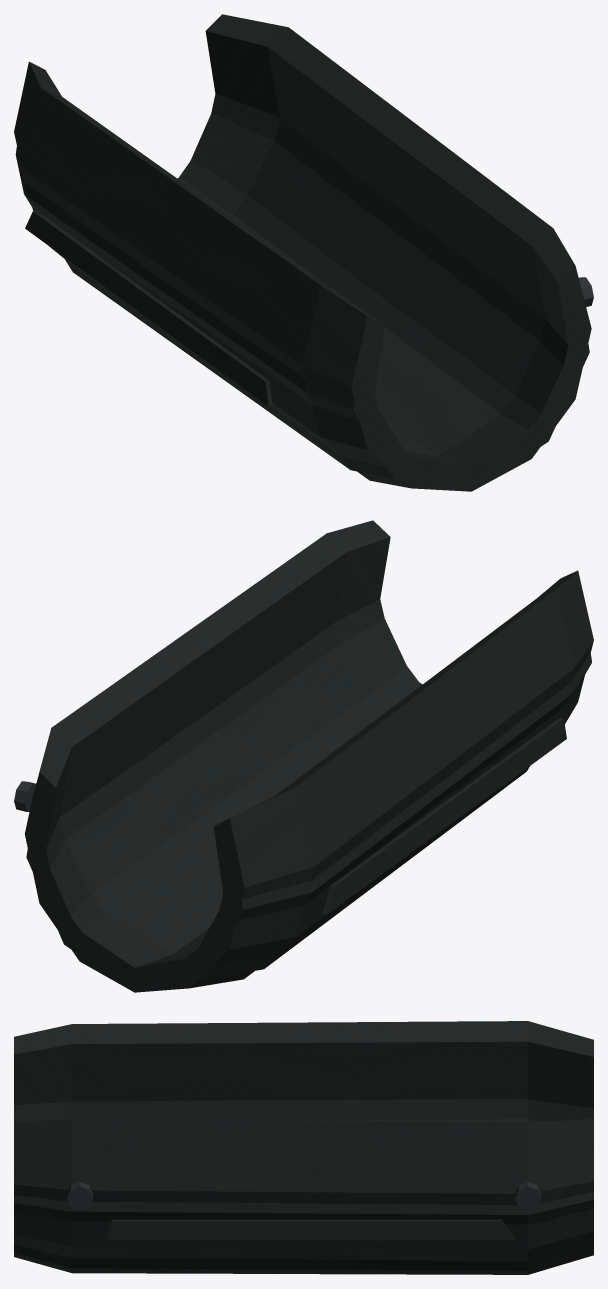
Rendered from mp5_guard.glb.
The picture shows the model from 3 angles, top to bottom: view 1: azimuth 30°, elevation 25°; view 2: azimuth 150°, elevation 25°; view 3: azimuth 270°, elevation 25°; orthographic projection. The views are drawn at different scales.
Visible parts, largest first — view 1: handguard__mp5_guard_LOD0_RAID_Secondary_Original_polymer, handguard__mp5_guard_LOD1_RAID_Secondary_Original_polymer; view 2: handguard__mp5_guard_LOD0_RAID_Secondary_Original_polymer, handguard__mp5_guard_LOD1_RAID_Secondary_Original_polymer; view 3: handguard__mp5_guard_LOD0_RAID_Secondary_Original_polymer, handguard__mp5_guard_LOD1_RAID_Secondary_Original_polymer, handguard__mp5_guard_LOD0_RAID_Secondary_Original_steel.
Part boxes in pixels (x1,y1,x2,y2): handguard__mp5_guard_LOD0_RAID_Secondary_Original_polymer: (14, 14, 591, 491); handguard__mp5_guard_LOD1_RAID_Secondary_Original_polymer: (15, 31, 589, 491); handguard__mp5_guard_LOD0_RAID_Secondary_Original_polymer: (25, 520, 593, 992); handguard__mp5_guard_LOD1_RAID_Secondary_Original_polymer: (26, 537, 591, 991); handguard__mp5_guard_LOD0_RAID_Secondary_Original_polymer: (14, 1021, 593, 1274); handguard__mp5_guard_LOD1_RAID_Secondary_Original_polymer: (14, 1041, 593, 1270); handguard__mp5_guard_LOD0_RAID_Secondary_Original_steel: (66, 1182, 541, 1209).
Size of the model in its own units: 0.1108 by 0.08 by 0.22.
Materials: 2 (2 with a texture image).
